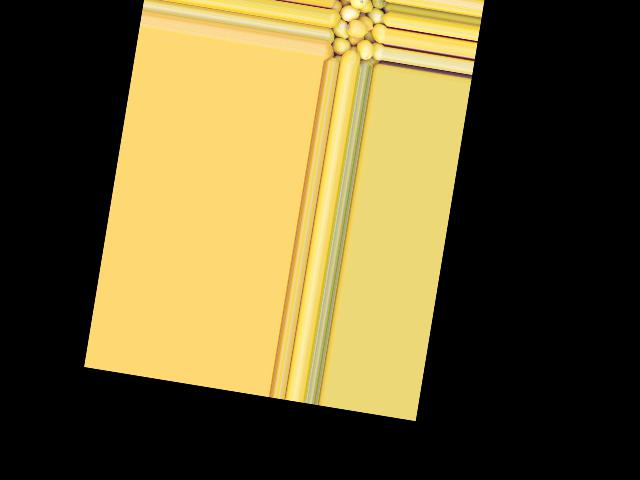lemon: (369, 21, 387, 44)
